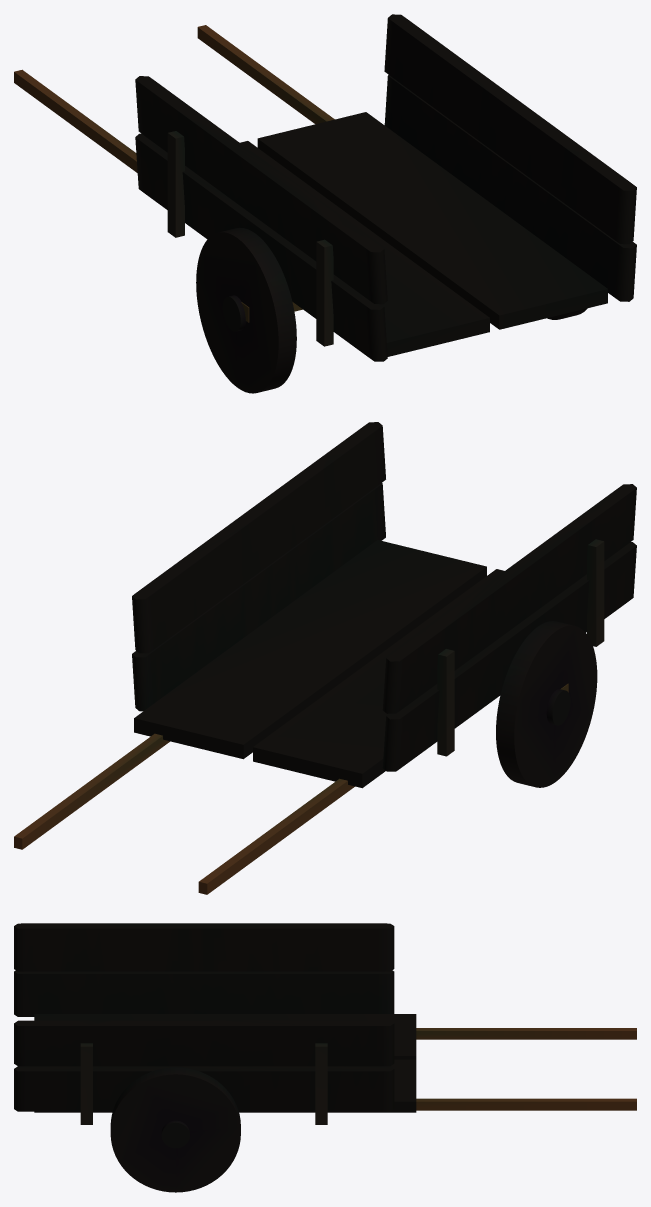
The picture shows the model from 3 angles, top to bottom: view 1: azimuth 30°, elevation 25°; view 2: azimuth 150°, elevation 25°; view 3: azimuth 270°, elevation 25°; orthographic projection. The views are drawn at different scales.
Visible parts, largest first — view 1: platform, upper_board, upper_board.001, lower_board, wheel_disc.001, lower_board.001, shaft, shaft.003, upright.004, upright.003; view 2: platform, upper_board, upper_board.001, lower_board, wheel_disc.001, lower_board.001, shaft.003, shaft, upright.004, upright.003; view 3: upper_board.001, upper_board, lower_board.001, wheel_disc, lower_board, platform, shaft, shaft.003, upright.001, upright.002.
Part boxes in pixels (left/top/right/bottom): platform: left=240, top=112, right=607, bottom=356; upper_board: left=384, top=14, right=636, bottom=244; upper_board.001: left=135, top=76, right=387, bottom=304; lower_board: left=384, top=75, right=636, bottom=301; wheel_disc.001: left=196, top=227, right=296, bottom=393; lower_board.001: left=135, top=133, right=387, bottom=361; shaft: left=197, top=25, right=334, bottom=124; shaft.003: left=14, top=69, right=137, bottom=172; upright.004: left=167, top=131, right=184, bottom=237; upright.003: left=316, top=239, right=333, bottom=346; platform: left=134, top=540, right=504, bottom=788; upper_board: left=132, top=422, right=385, bottom=653; upper_board.001: left=382, top=484, right=636, bottom=713; lower_board: left=132, top=483, right=385, bottom=711; wheel_disc.001: left=496, top=621, right=597, bottom=787; lower_board.001: left=382, top=542, right=636, bottom=771; shaft.003: left=198, top=778, right=354, bottom=894; shaft: left=14, top=733, right=169, bottom=849; upright.004: left=437, top=649, right=454, bottom=756; upright.003: left=587, top=539, right=604, bottom=646; upper_board.001: left=14, top=923, right=394, bottom=971; upper_board: left=14, top=1020, right=394, bottom=1066; lower_board.001: left=14, top=970, right=394, bottom=1016; wheel_disc: left=110, top=1067, right=240, bottom=1192; lower_board: left=14, top=1066, right=394, bottom=1111; platform: left=34, top=1014, right=416, bottom=1112; shaft: left=416, top=1098, right=636, bottom=1110; shaft.003: left=416, top=1028, right=636, bottom=1039; upright.001: left=80, top=1043, right=92, bottom=1124; upright.002: left=315, top=1043, right=327, bottom=1124.
Bounding box in the file's own units: 0.856 × 0.523 × 1.8.
